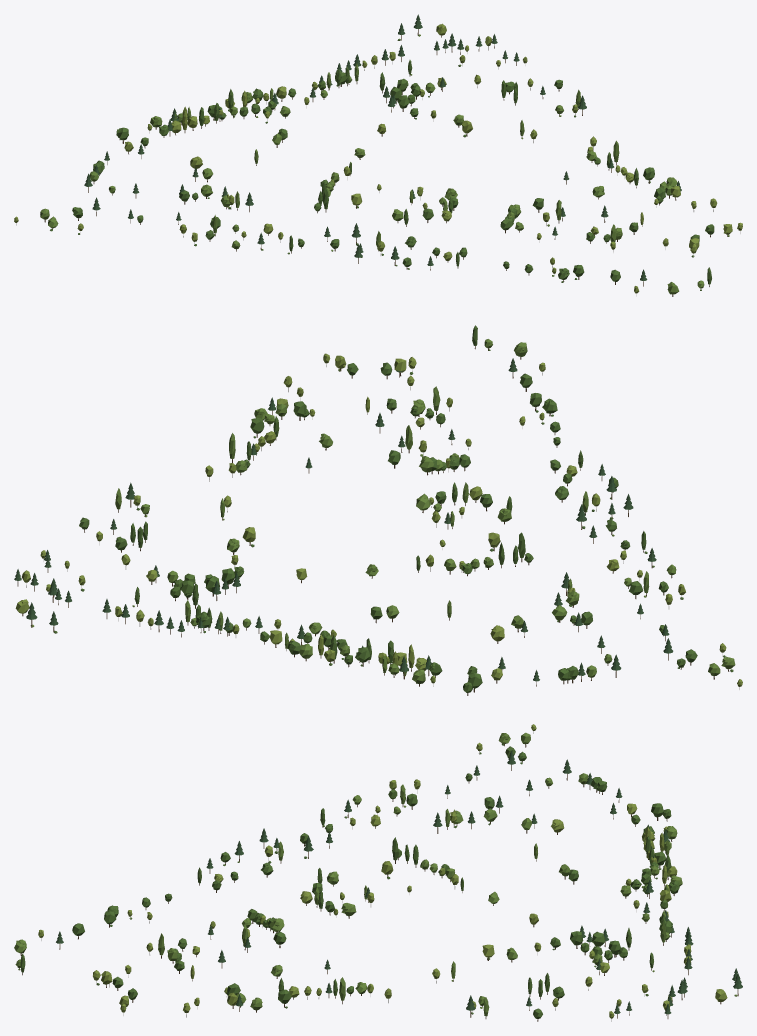
Rendered from Natura_0_2.fbx.
3 renders of one model, top to bottom at view 1: azimuth 30°, elevation 25°; view 2: azimuth 150°, elevation 25°; view 3: azimuth 270°, elevation 25°, orthographic. The views are drawn at different scales.
Bounding box in the file's own units: 442 × 19.45 × 468.
